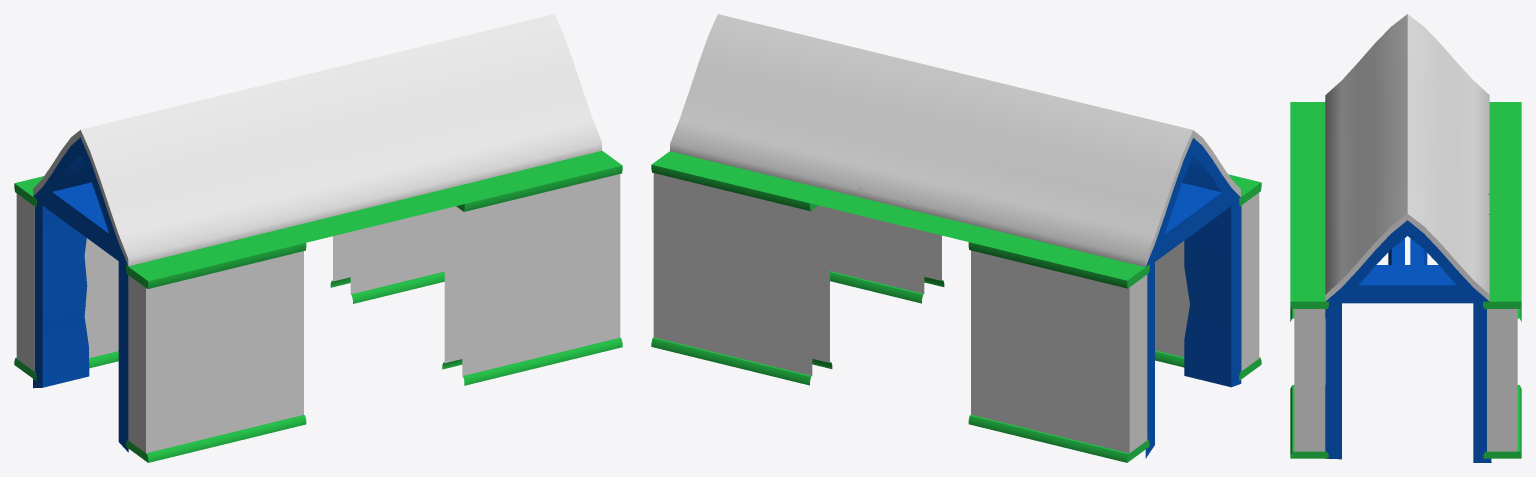
Rendered from Basic Hallway 06B_NF.fbx.
3 views of the same model, side by side, from view 1: azimuth 30°, elevation 25°; view 2: azimuth 150°, elevation 25°; view 3: azimuth 270°, elevation 25° (orthographic). The views are drawn at different scales.
Visible parts, largest first — view 1: Plane_001_001; view 2: Plane_001_001; view 3: Plane_001_001.
Part boxes in pixels (left/top/right/bottom): Plane_001_001: left=14, top=14, right=622, bottom=462; Plane_001_001: left=651, top=14, right=1261, bottom=462; Plane_001_001: left=1290, top=14, right=1521, bottom=462.
Size of the model in its own units: 1258 by 744 by 615.
